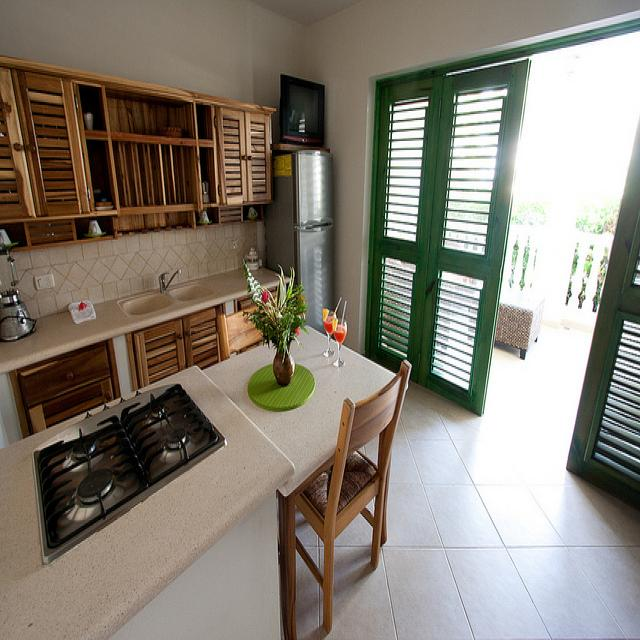chair: (295, 358, 414, 635), (217, 303, 264, 362)
dining table: (197, 319, 408, 495)
